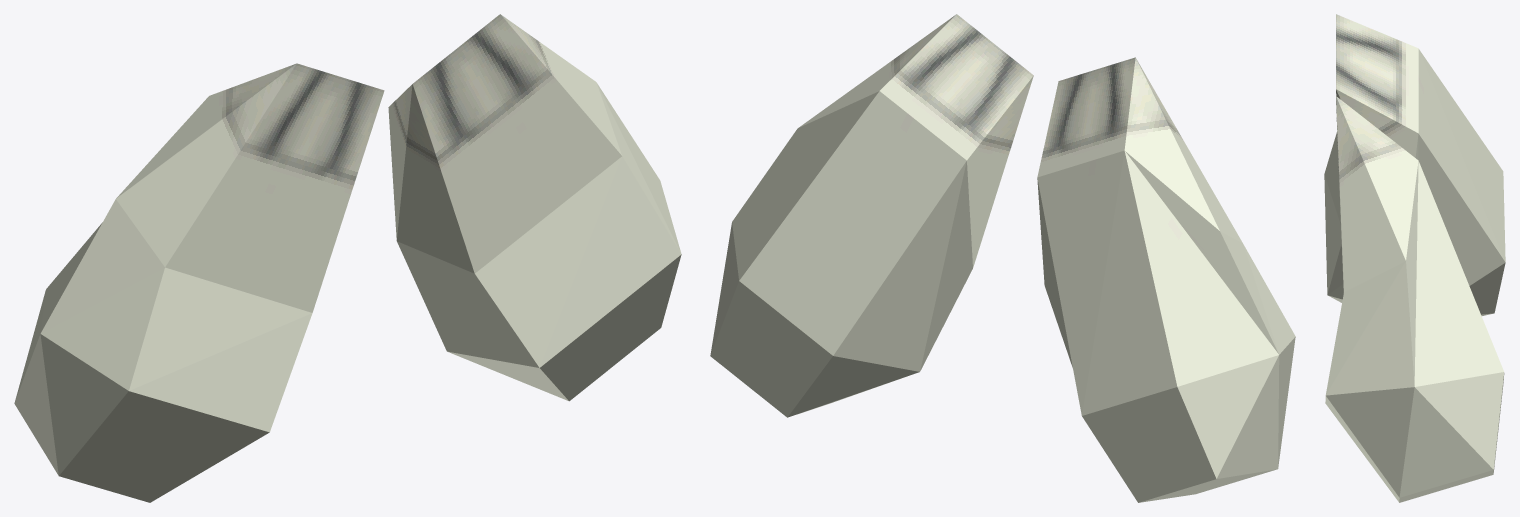
File: BR_Ziguzaguma.obj
The picture shows the model from 3 angles, left to right: view 1: azimuth 30°, elevation 25°; view 2: azimuth 150°, elevation 25°; view 3: azimuth 270°, elevation 25°; orthographic projection. The views are drawn at different scales.
Visible parts, largest first — view 1: ziguzaguma; view 2: ziguzaguma; view 3: ziguzaguma.
Boxes of the visible parts, bbox=[...] form: ziguzaguma: bbox=[14, 14, 681, 502]; ziguzaguma: bbox=[710, 14, 1295, 502]; ziguzaguma: bbox=[1324, 14, 1505, 502].
Bounding box in the file's own units: 5.83 × 3.96 × 1.79.
Materials: 2 (2 with a texture image).
